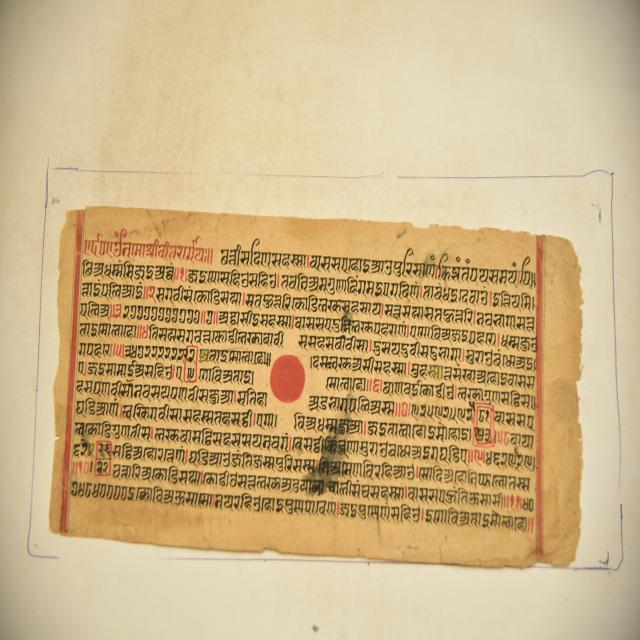text_paragraph: (43, 201, 576, 567)
